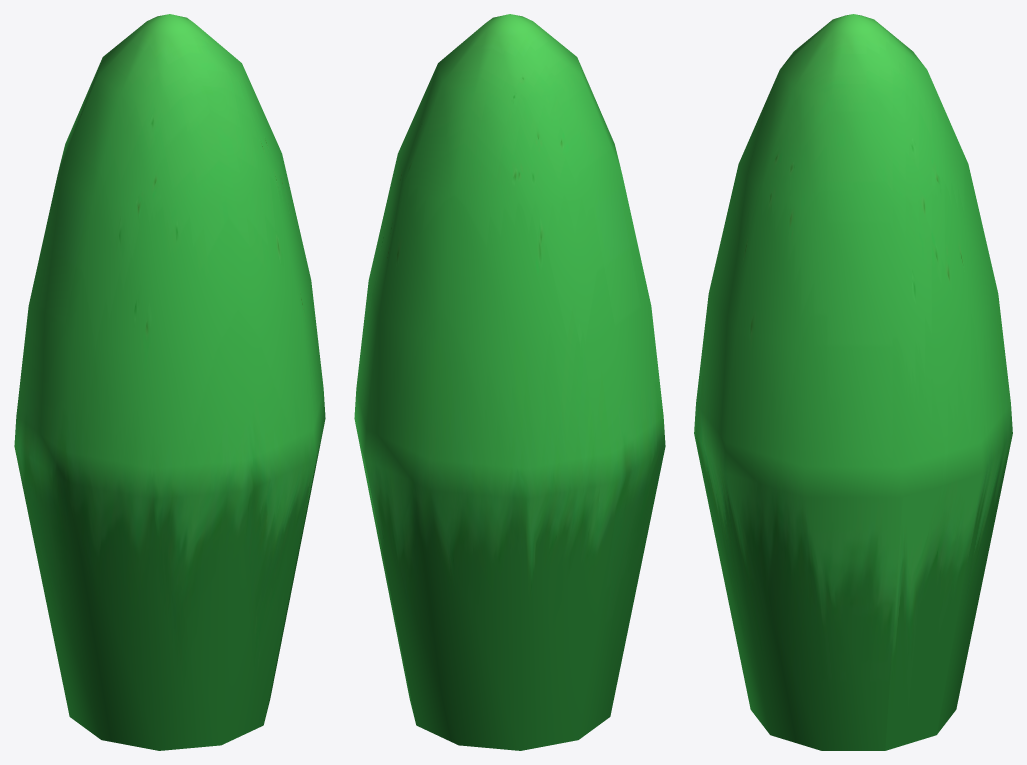
Rendered from french_bushes_03.glb.
The picture shows the model from 3 angles, left to right: view 1: azimuth 30°, elevation 25°; view 2: azimuth 150°, elevation 25°; view 3: azimuth 270°, elevation 25°; orthographic projection.
Parts seen in each view (by area): view 1: french_trees:pSphere240; view 2: french_trees:pSphere240; view 3: french_trees:pSphere240.
Boxes of the visible parts, x1,y1,x2,y2 form: french_trees:pSphere240: (14, 14, 325, 750); french_trees:pSphere240: (354, 14, 665, 750); french_trees:pSphere240: (694, 14, 1012, 750).
Size of the model in its own units: 0.5989 by 1.52 by 0.6297.
1 material, 1 textured.
